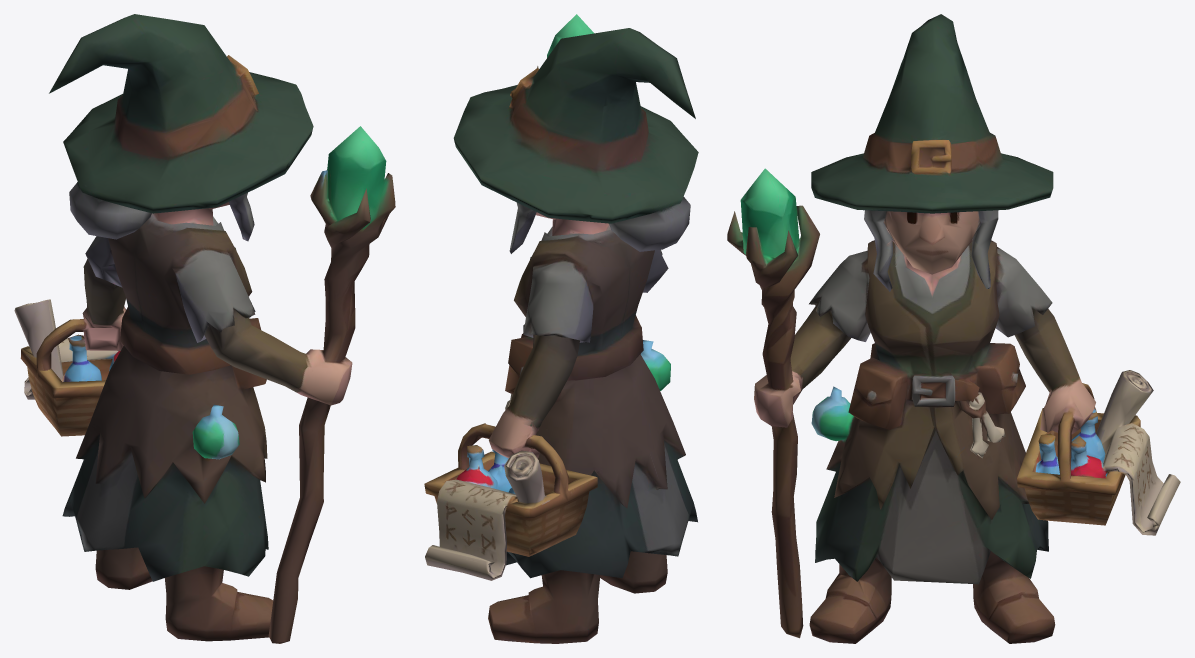
The model's file is witch.glb.
3 views of the same model, side by side, from view 1: azimuth 30°, elevation 25°; view 2: azimuth 150°, elevation 25°; view 3: azimuth 270°, elevation 25° (orthographic). The views are drawn at different scales.
Parts seen in each view (by area): view 1: tripo_node_374f114d-ca0e-4e2d-90c9-b474f8194006; view 2: tripo_node_374f114d-ca0e-4e2d-90c9-b474f8194006; view 3: tripo_node_374f114d-ca0e-4e2d-90c9-b474f8194006.
Part boxes in pixels (<box>): tripo_node_374f114d-ca0e-4e2d-90c9-b474f8194006: <box>14,14,395,643</box>; tripo_node_374f114d-ca0e-4e2d-90c9-b474f8194006: <box>424,14,698,643</box>; tripo_node_374f114d-ca0e-4e2d-90c9-b474f8194006: <box>727,14,1180,643</box>.
Size of the model in its own units: 0.4405 by 1 by 0.7095.
Materials: 1 (1 with a texture image).
